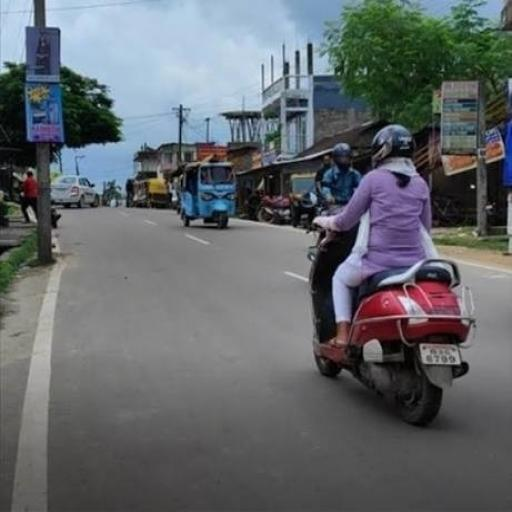helmet: (368, 123, 415, 176), (330, 144, 356, 174)
